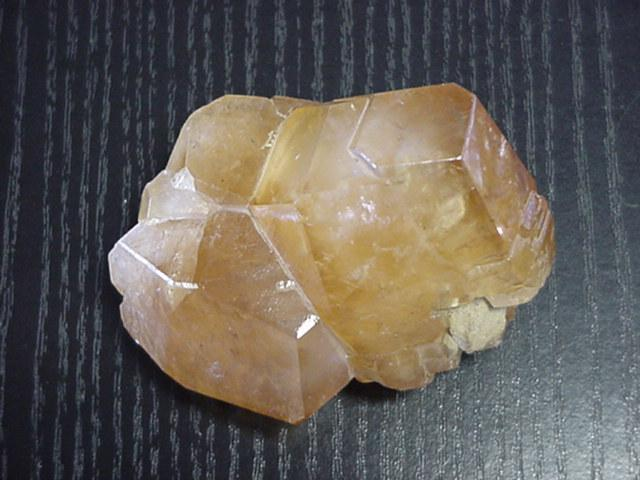calcite: (109, 84, 556, 424)
